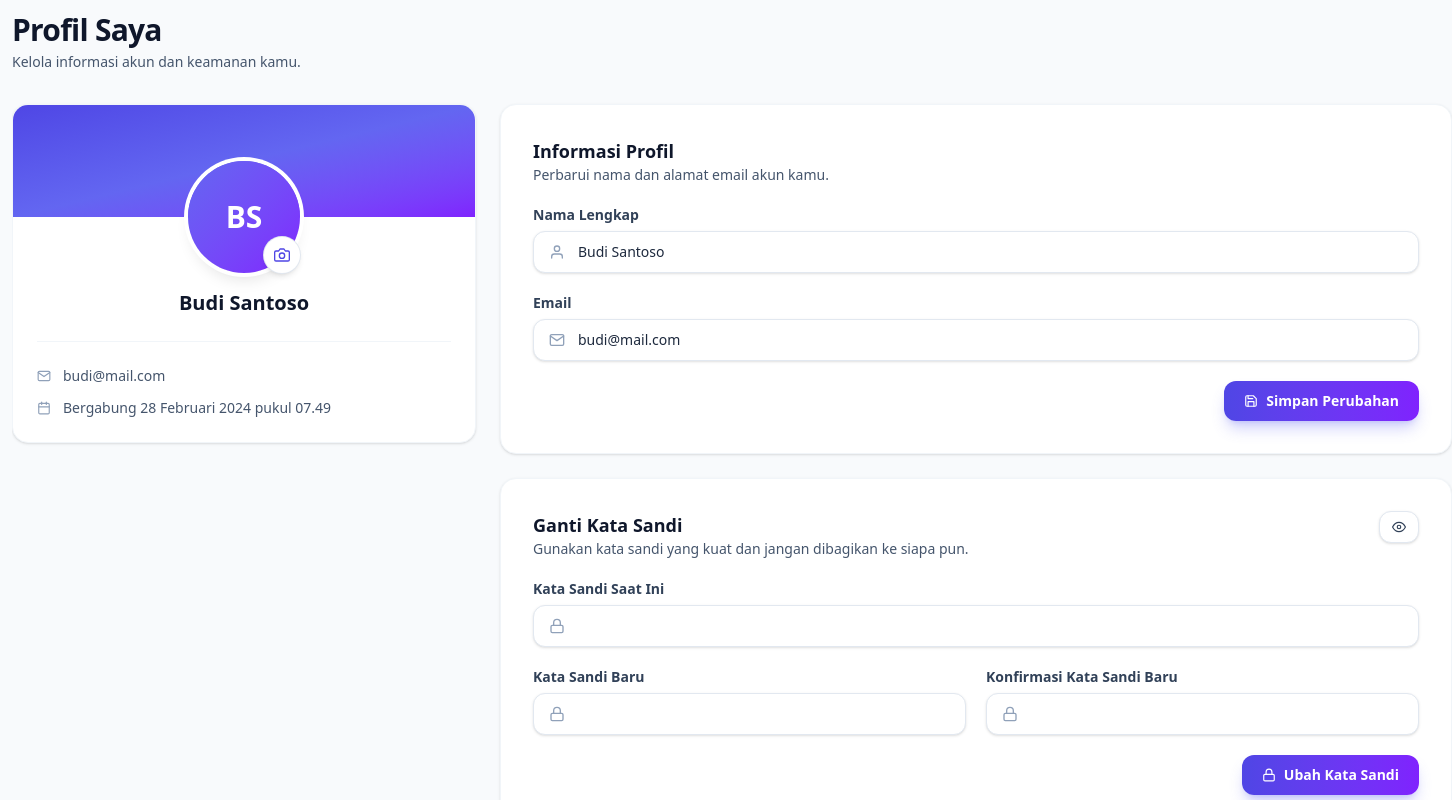
Scenario: ProfilePage › informasi profil › menampilkan pesan wajib diisi
Clear the field labelled "Nama Lengkap". click: (976, 252)
box: [533,231,1419,273]
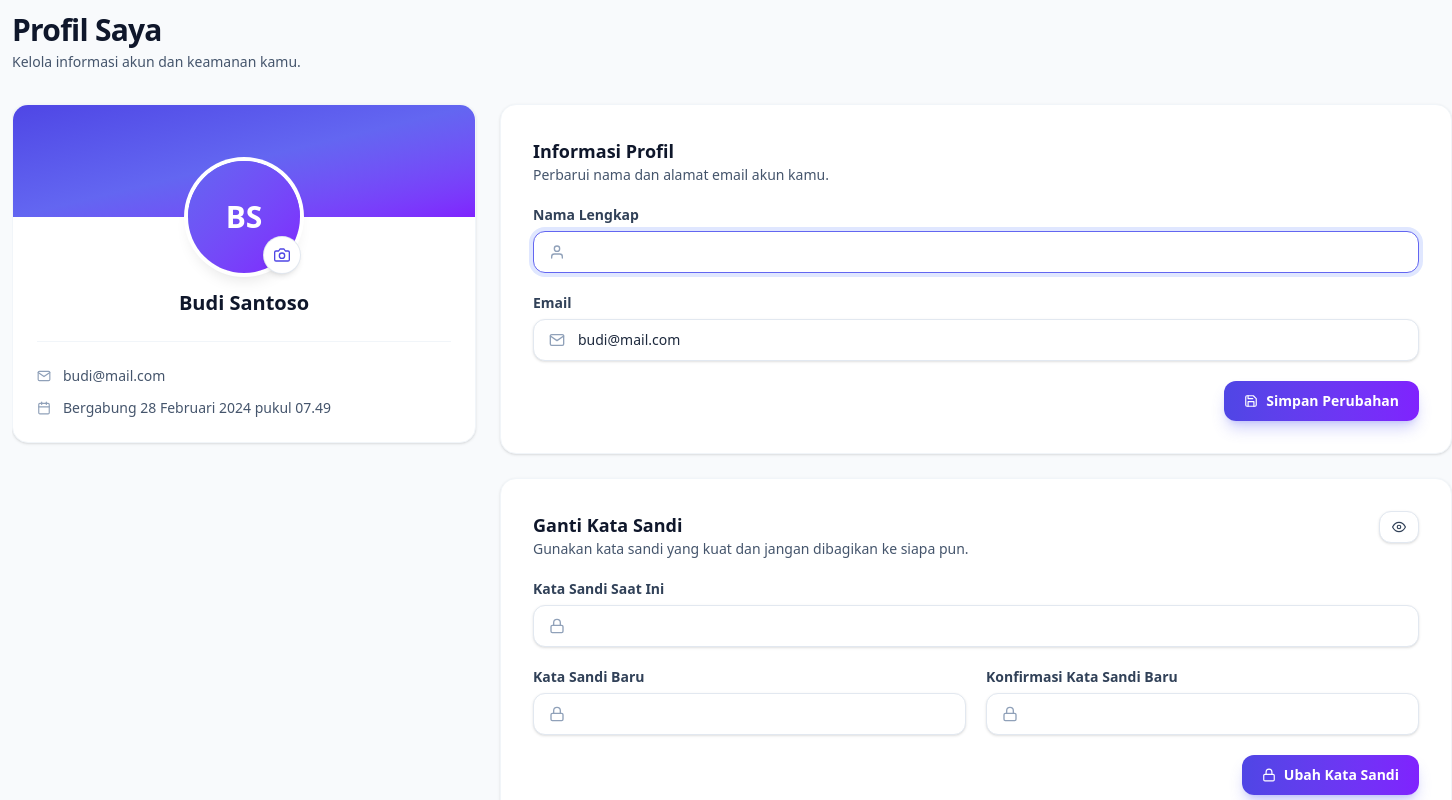
Clear the field labelled "Email". click: (976, 340)
box: [533,319,1419,361]
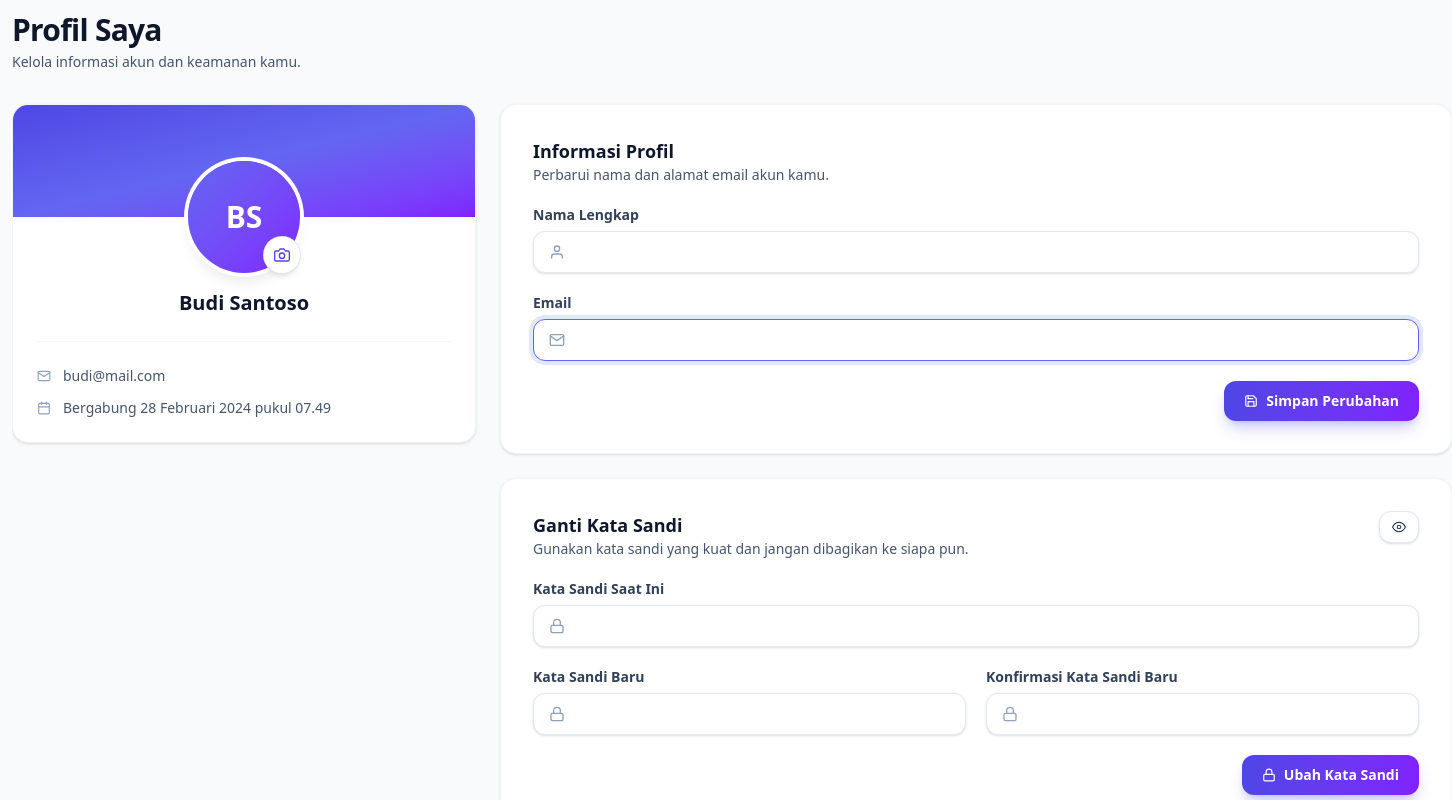
Click the button "Simpan Perubahan". click: (1322, 401)
box: [1224,381,1419,421]
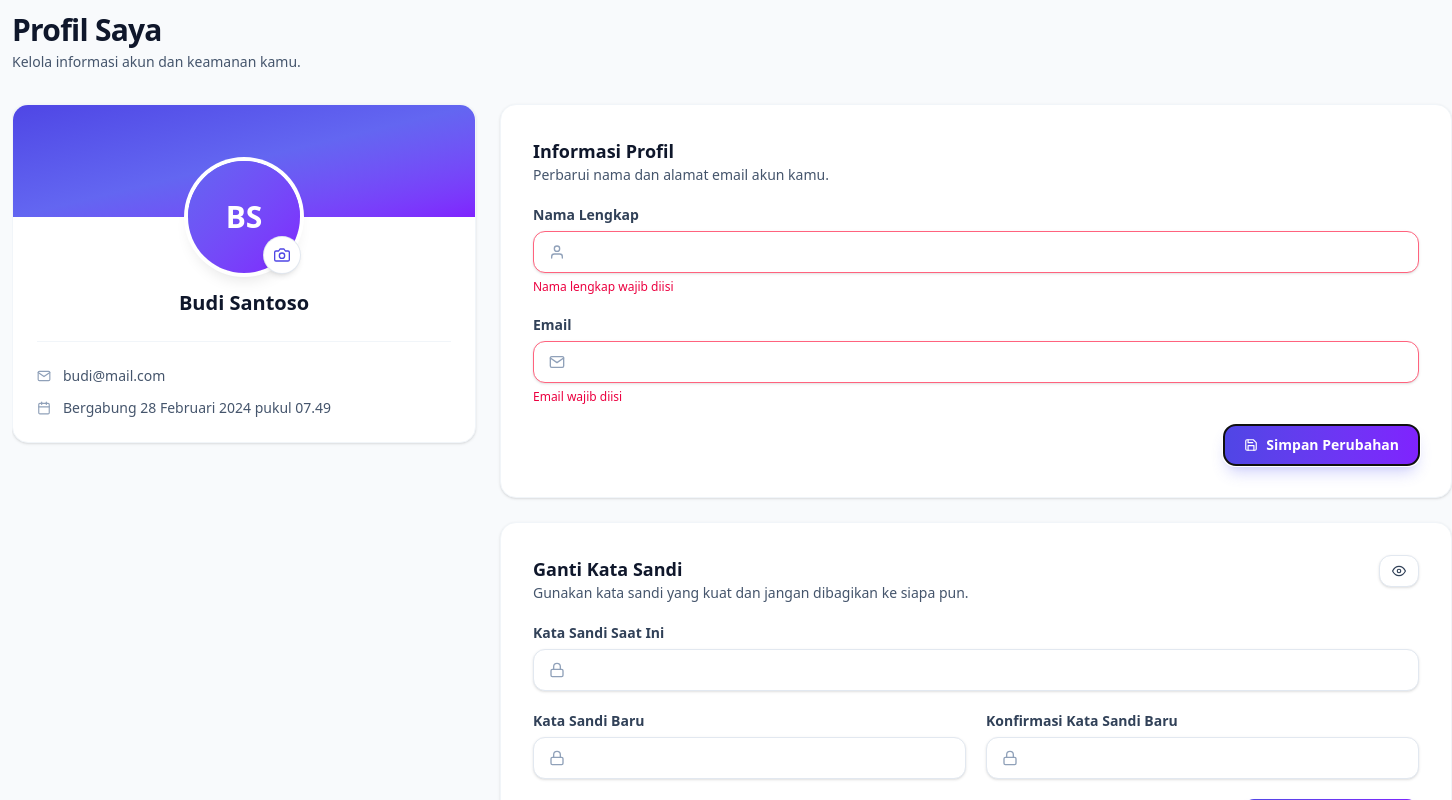
Expected: the text "Nama lengkap wajib diisi" is shown, [533,278,674,295]
Expected: the text "Email wajib diisi" is shown, [533,388,622,405]
